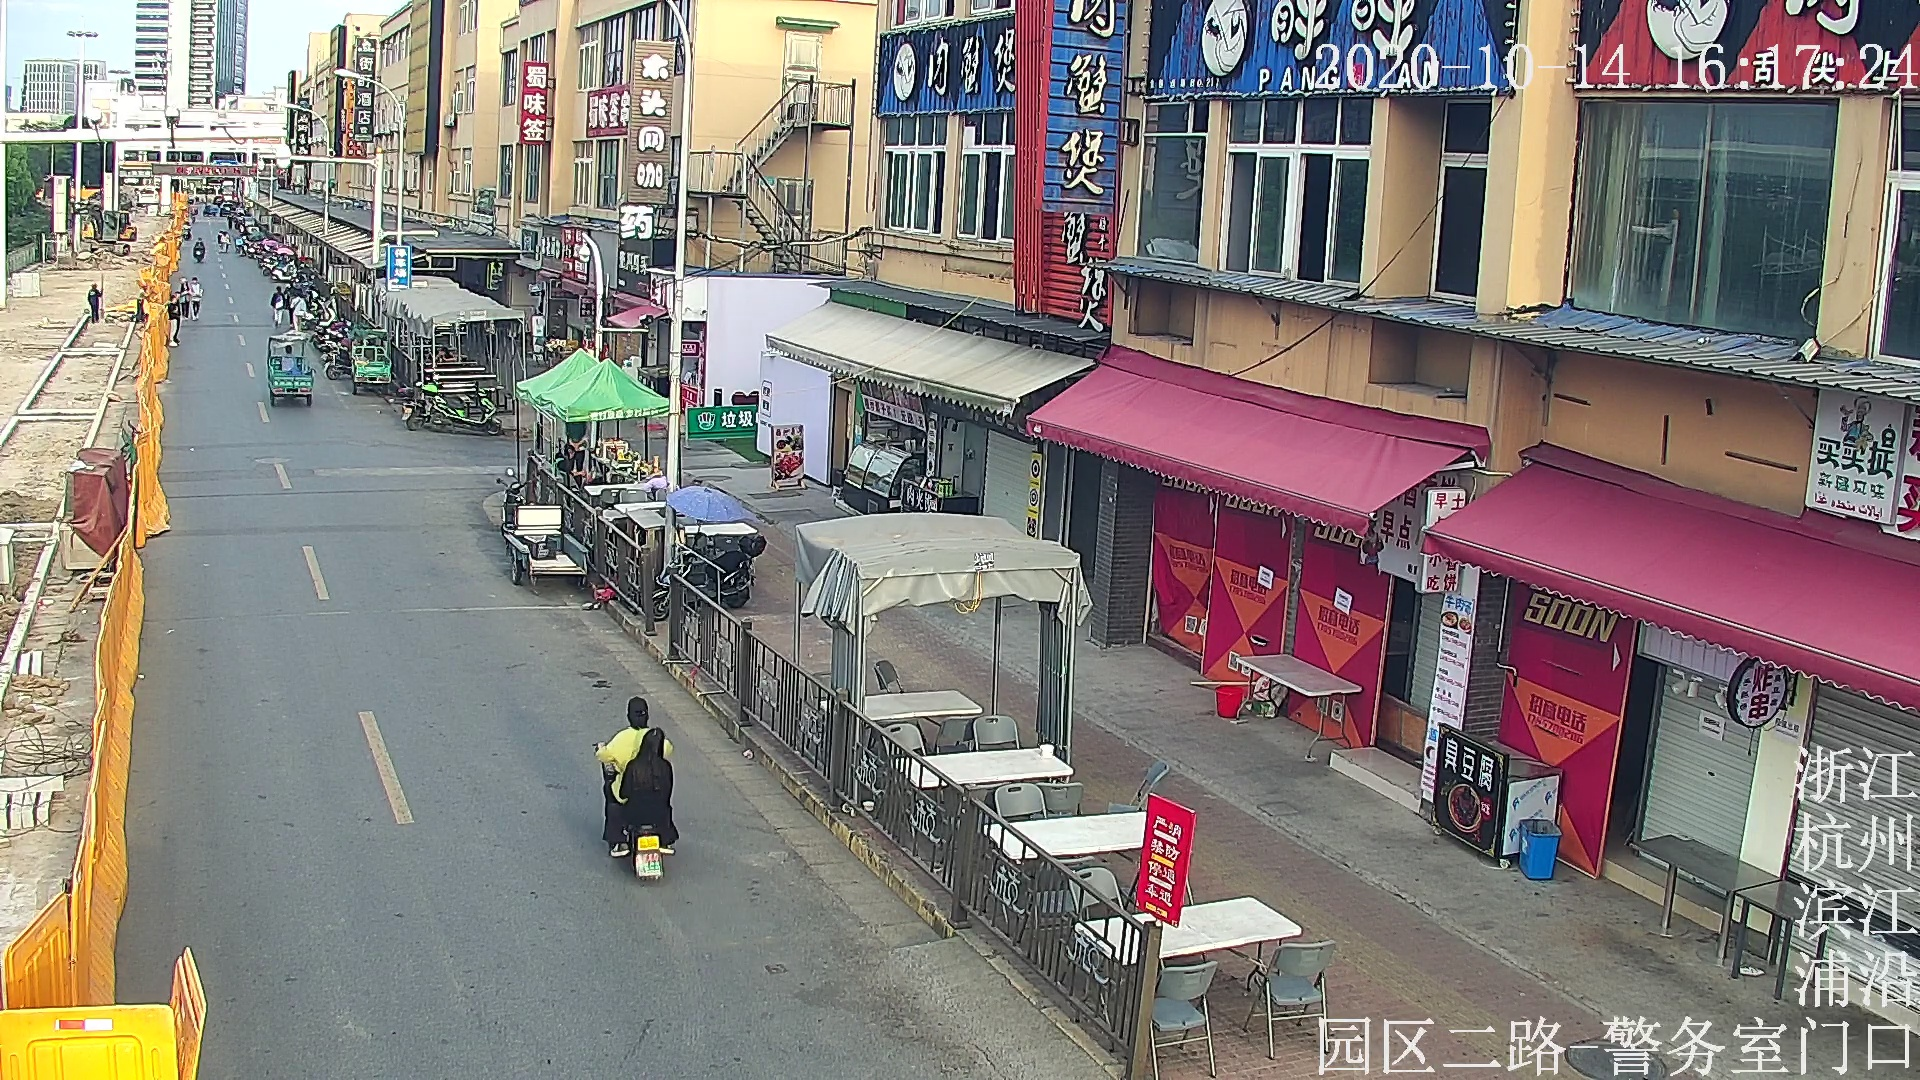chair: (1244, 940, 1338, 1060), (1141, 960, 1216, 1077), (1056, 866, 1125, 988), (1014, 855, 1096, 944), (1106, 760, 1170, 814), (994, 782, 1047, 822), (972, 713, 1021, 750), (880, 723, 926, 758), (872, 658, 905, 692)
table: (1069, 893, 1303, 1054), (975, 808, 1195, 924), (891, 741, 1075, 856), (1627, 831, 1782, 963), (1232, 651, 1364, 760), (1730, 877, 1844, 1001), (861, 688, 982, 720), (682, 521, 758, 535), (584, 483, 659, 496)
table_chair: (1051, 861, 1341, 1077), (965, 778, 1205, 947), (876, 713, 1092, 858), (808, 657, 984, 752), (931, 715, 978, 753), (1036, 782, 1083, 815)
umbrella: (790, 512, 1095, 644), (533, 357, 670, 423), (382, 281, 527, 340), (512, 347, 600, 402)
